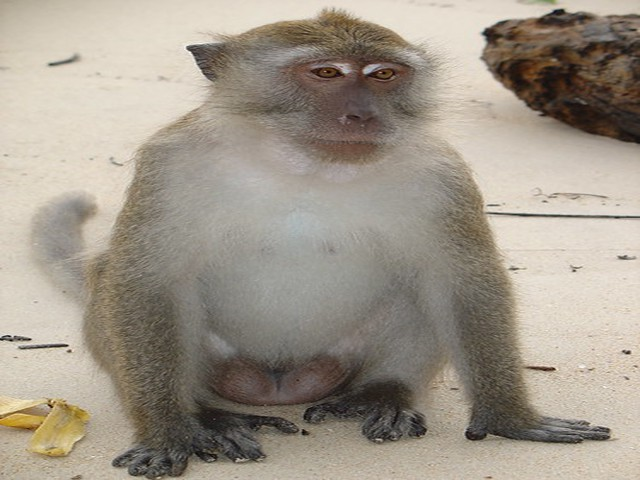Monkey: (77, 8, 622, 470)
